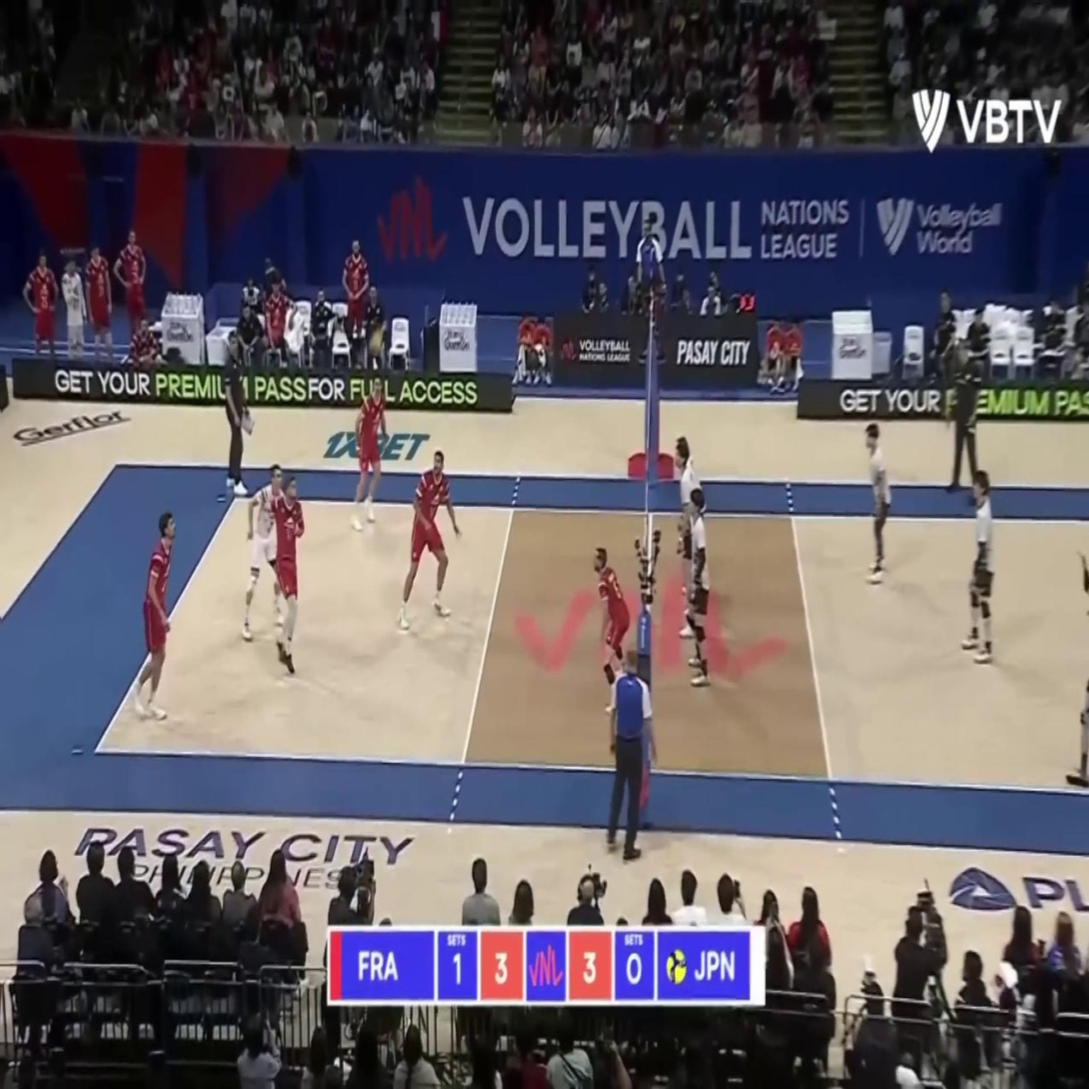ball: (368, 329, 381, 353)
